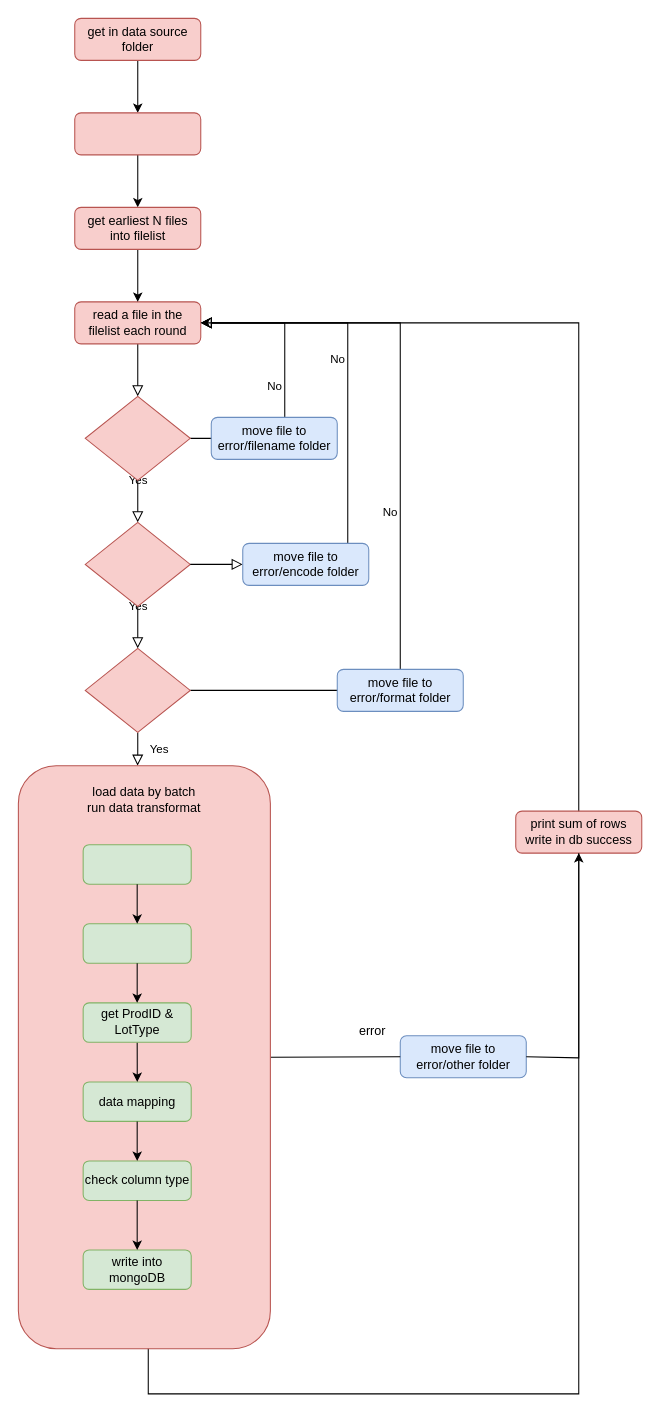
Some shapes in this 660 by 1421 pixel diagram are drawn without their labels. Each missing label, with the centre of its shape:
"check file column type" belongs at [137,689].
"check file encode" belongs at [137,563].
"check file name" belongs at [137,437].
"replace column name" belongs at [136,943].
"setup time format" belongs at [136,864].
"sort files by name" belongs at [137,133].
